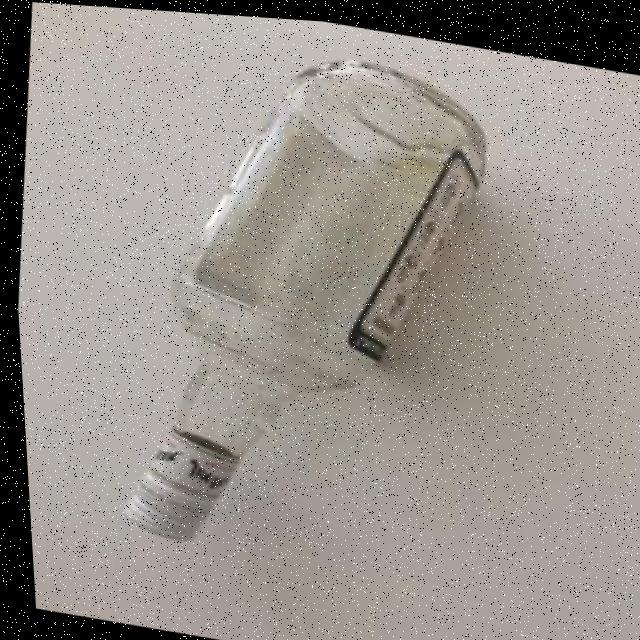glass: (94, 18, 523, 590)
